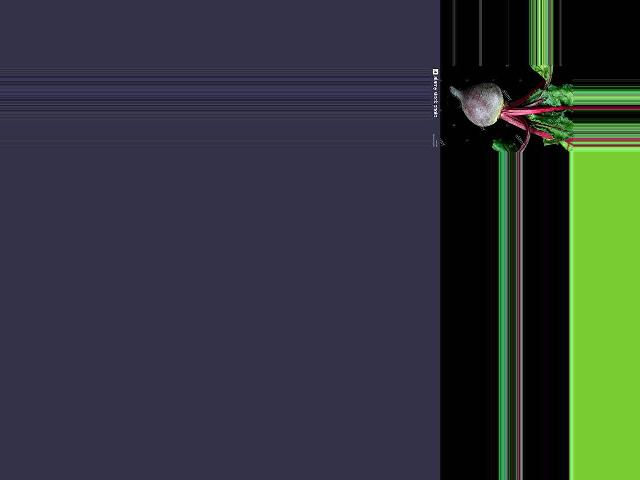beet: (449, 65, 573, 152)
